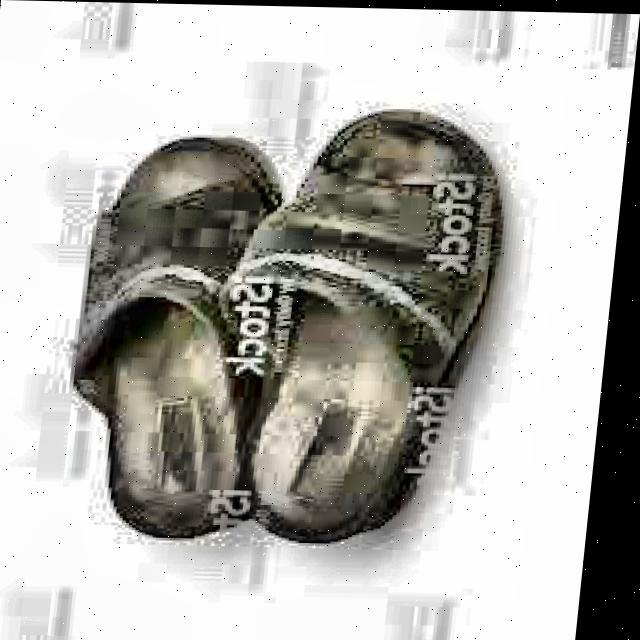shoes: (43, 101, 521, 553)
